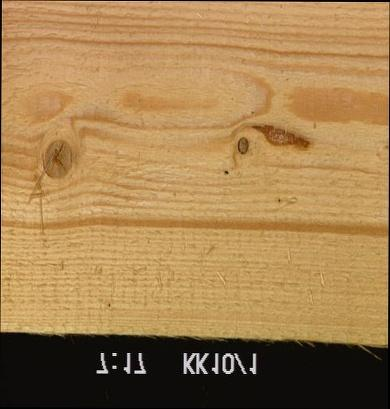dry_knot: (236, 135, 249, 155)
sound_knot: (40, 138, 73, 182)
